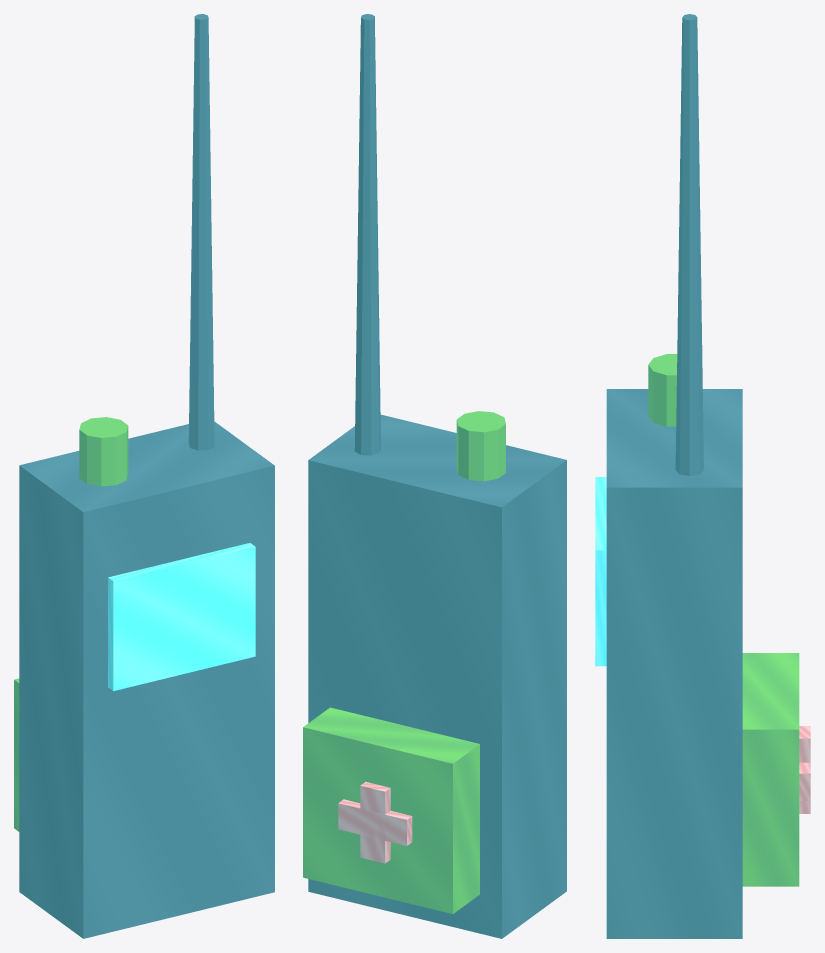
The model's file is tactical-medkit-radio.glb.
3 renders of one model, left to right at view 1: azimuth 30°, elevation 25°; view 2: azimuth 150°, elevation 25°; view 3: azimuth 270°, elevation 25°, orthographic. The views are drawn at different scales.
Visible parts, largest first — view 1: TS_Prop_tactical-medkit-radio; view 2: TS_Prop_tactical-medkit-radio; view 3: TS_Prop_tactical-medkit-radio.
Part boxes in pixels (bbox=[...]): TS_Prop_tactical-medkit-radio: bbox=[14, 14, 274, 938]; TS_Prop_tactical-medkit-radio: bbox=[303, 14, 566, 938]; TS_Prop_tactical-medkit-radio: bbox=[595, 14, 810, 938].
Bounding box in the file's own units: 0.062 × 0.2645 × 0.057.
1 material, 1 textured.
